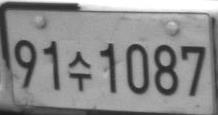0: (125, 42, 150, 95)
1: (97, 42, 121, 94), (41, 40, 65, 90)
7: (179, 45, 206, 96)
8: (153, 44, 179, 96)
9: (13, 38, 37, 88)
수: (68, 50, 92, 91)
